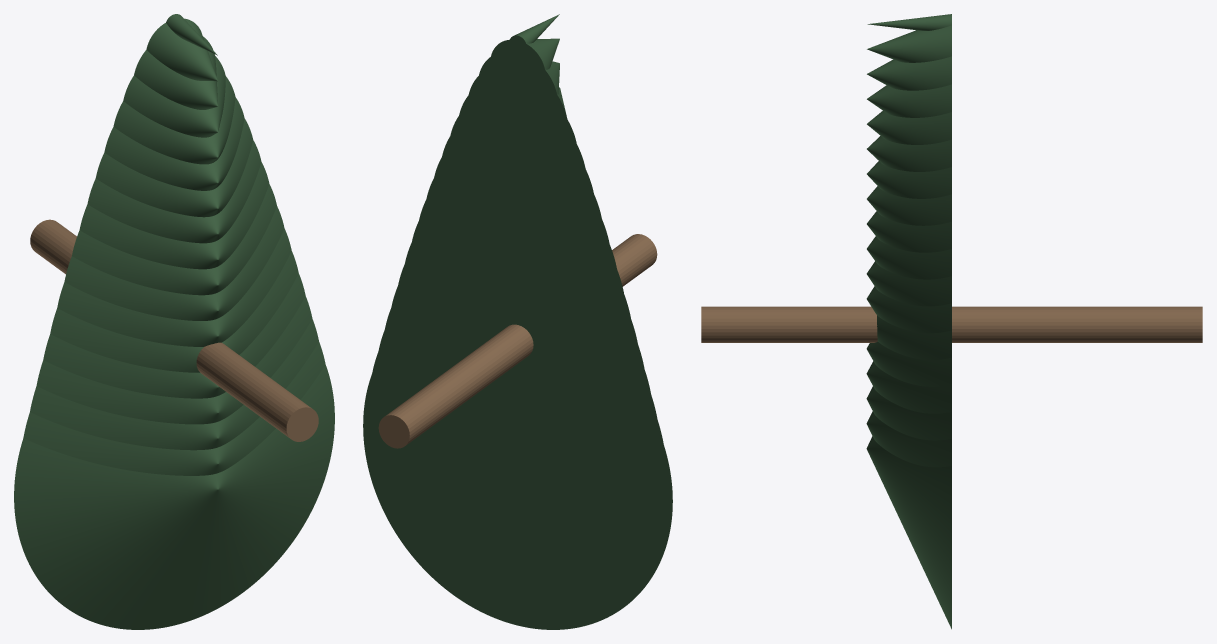
The model's file is pine-tree-10000.glb.
The picture shows the model from 3 angles, left to right: view 1: azimuth 30°, elevation 25°; view 2: azimuth 150°, elevation 25°; view 3: azimuth 270°, elevation 25°; orthographic projection. The views are drawn at different scales.
Parts seen in each view (by area): view 1: foliage, trunk; view 2: foliage, trunk; view 3: foliage, trunk.
Boxes of the visible parts, bbox=[...] form: foliage: bbox=[14, 14, 334, 629]; trunk: bbox=[30, 219, 318, 441]; foliage: bbox=[363, 14, 672, 629]; trunk: bbox=[378, 234, 657, 448]; foliage: bbox=[866, 14, 951, 629]; trunk: bbox=[701, 306, 1202, 342].
Bounding box in the file's own units: 6.36 × 11.58 × 8.8.
